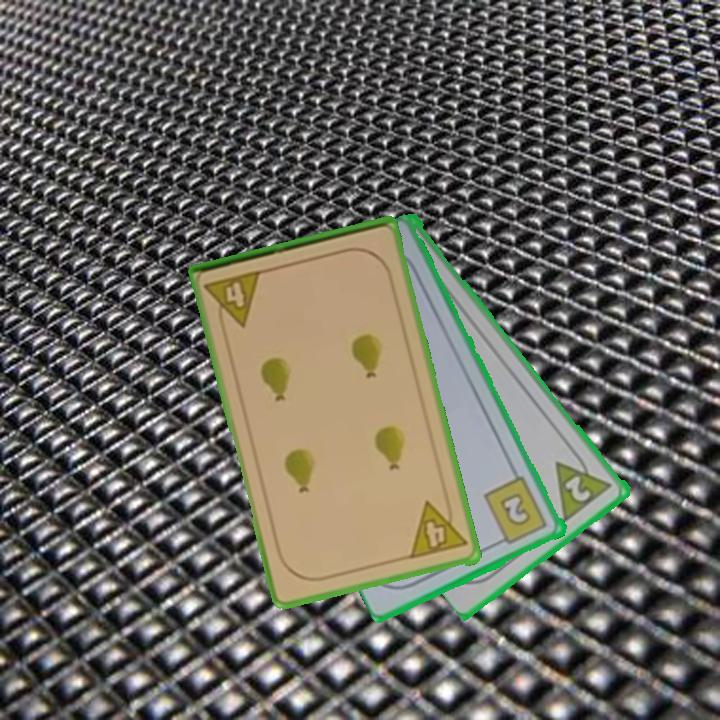2b: (481, 473, 551, 548)
2p: (551, 445, 616, 524)
4p: (405, 494, 470, 562), (201, 267, 265, 334)
